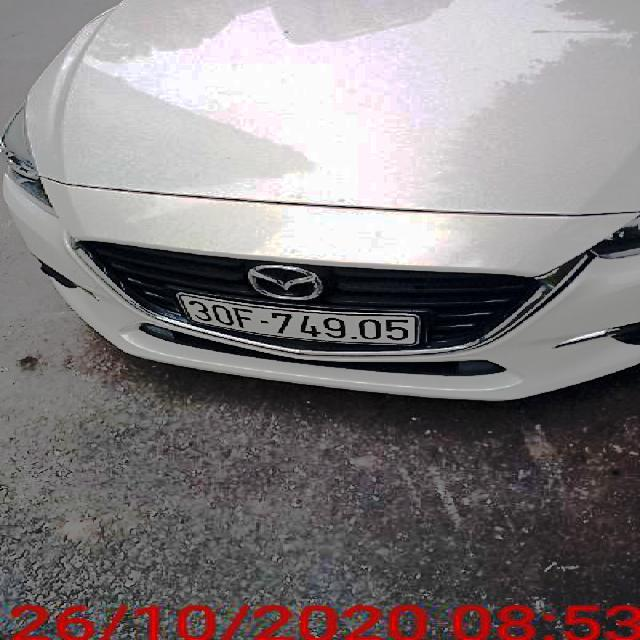license_plate: (180, 296, 421, 350)
